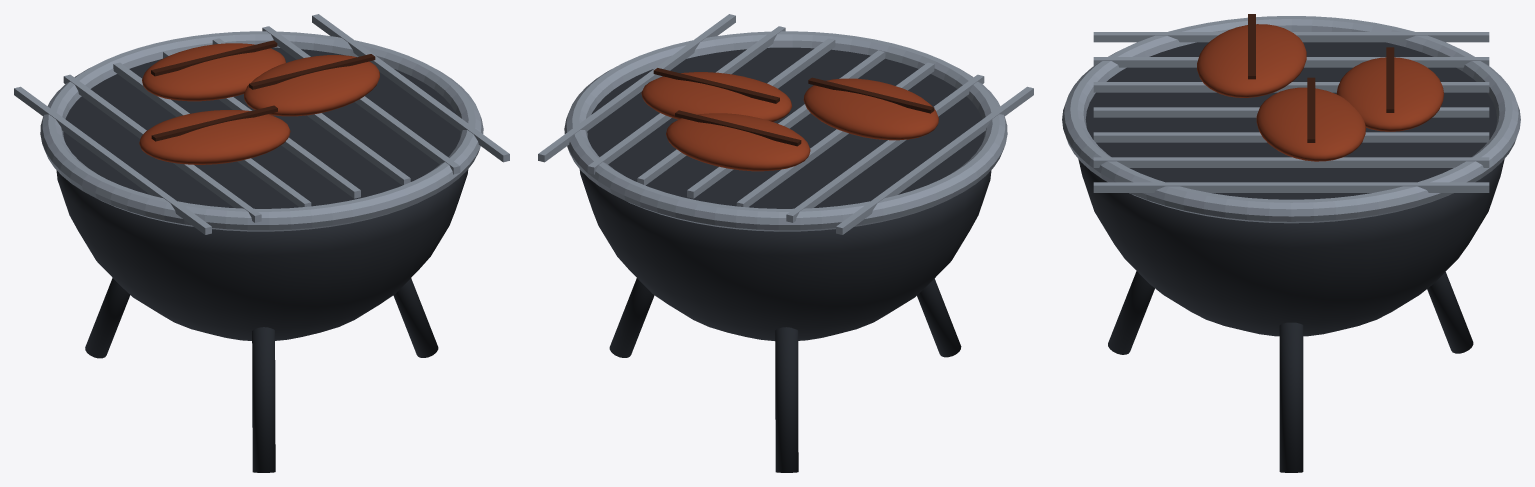
The model's file is asador.glb.
The picture shows the model from 3 angles, left to right: view 1: azimuth 30°, elevation 25°; view 2: azimuth 150°, elevation 25°; view 3: azimuth 270°, elevation 25°; orthographic projection. The views are drawn at different scales.
Visible parts, largest first — view 1: Sphere, Torus.002, Sphere.001, Sphere.002, Sphere.003, Cylinder.002, Cube, Cube.006, Cube.001, Cube.005, Cylinder.001, Cylinder (+5 smaller); view 2: Sphere, Torus.002, Sphere.003, Sphere.001, Sphere.002, Cylinder.001, Cube, Cube.006, Cube.001, Cube.005, Cylinder, Cube.002 (+6 smaller); view 3: Sphere, Torus.002, Sphere.002, Sphere.001, Sphere.003, Cube.005, Cube.006, Cylinder, Cube.004, Cube, Cube.003, Cube.001 (+3 smaller).
Part boxes in pixels (<box>): Sphere: <box>56,47,468,340</box>; Torus.002: <box>40,31,483,231</box>; Sphere.001: <box>139,110,290,164</box>; Sphere.002: <box>244,55,379,116</box>; Sphere.003: <box>142,43,285,101</box>; Cylinder.002: <box>252,327,275,472</box>; Cube: <box>14,86,211,234</box>; Cube.006: <box>312,14,509,162</box>; Cube.001: <box>63,74,261,222</box>; Cube.005: <box>262,26,460,174</box>; Cylinder.001: <box>85,278,130,358</box>; Cylinder: <box>393,278,438,357</box>; Sphere: <box>579,47,991,340</box>; Torus.002: <box>564,31,1007,231</box>; Sphere.003: <box>666,113,810,171</box>; Sphere.001: <box>803,78,938,140</box>; Sphere.002: <box>641,72,792,121</box>; Cylinder.001: <box>775,327,798,472</box>; Cube: <box>836,86,1033,234</box>; Cube.006: <box>538,14,735,162</box>; Cube.001: <box>786,74,984,222</box>; Cube.005: <box>587,26,785,174</box>; Cylinder: <box>609,278,654,357</box>; Cube.002: <box>736,62,934,207</box>; Sphere: <box>1078,42,1504,336</box>; Torus.002: <box>1062,16,1520,223</box>; Sphere.002: <box>1256,87,1365,161</box>; Sphere.001: <box>1197,24,1306,97</box>; Sphere.003: <box>1336,57,1443,131</box>; Cube.005: <box>1093,157,1489,167</box>; Cube.006: <box>1093,182,1489,192</box>; Cylinder: <box>1279,322,1303,472</box>; Cube.004: <box>1093,132,1489,142</box>; Cube: <box>1093,32,1489,42</box>; Cube.003: <box>1093,107,1489,117</box>; Cube.001: <box>1093,57,1489,67</box>.
Bounding box in the file's own units: 1.16 × 0.8755 × 1.16.
